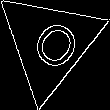O_SW: (18, 10, 81, 77)
